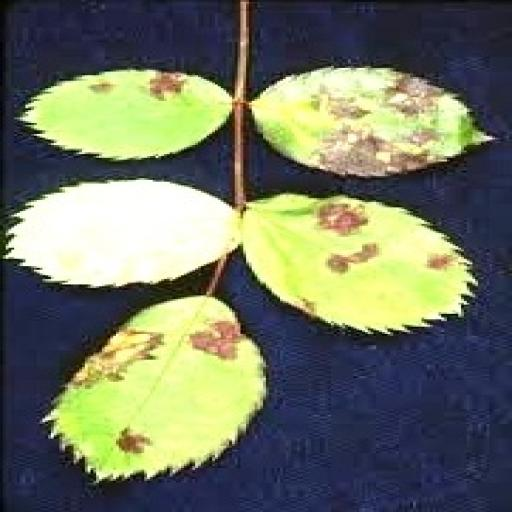downy_mildew: (49, 296, 265, 478), (244, 195, 475, 332), (252, 68, 489, 176), (9, 180, 240, 286), (23, 70, 231, 159)
